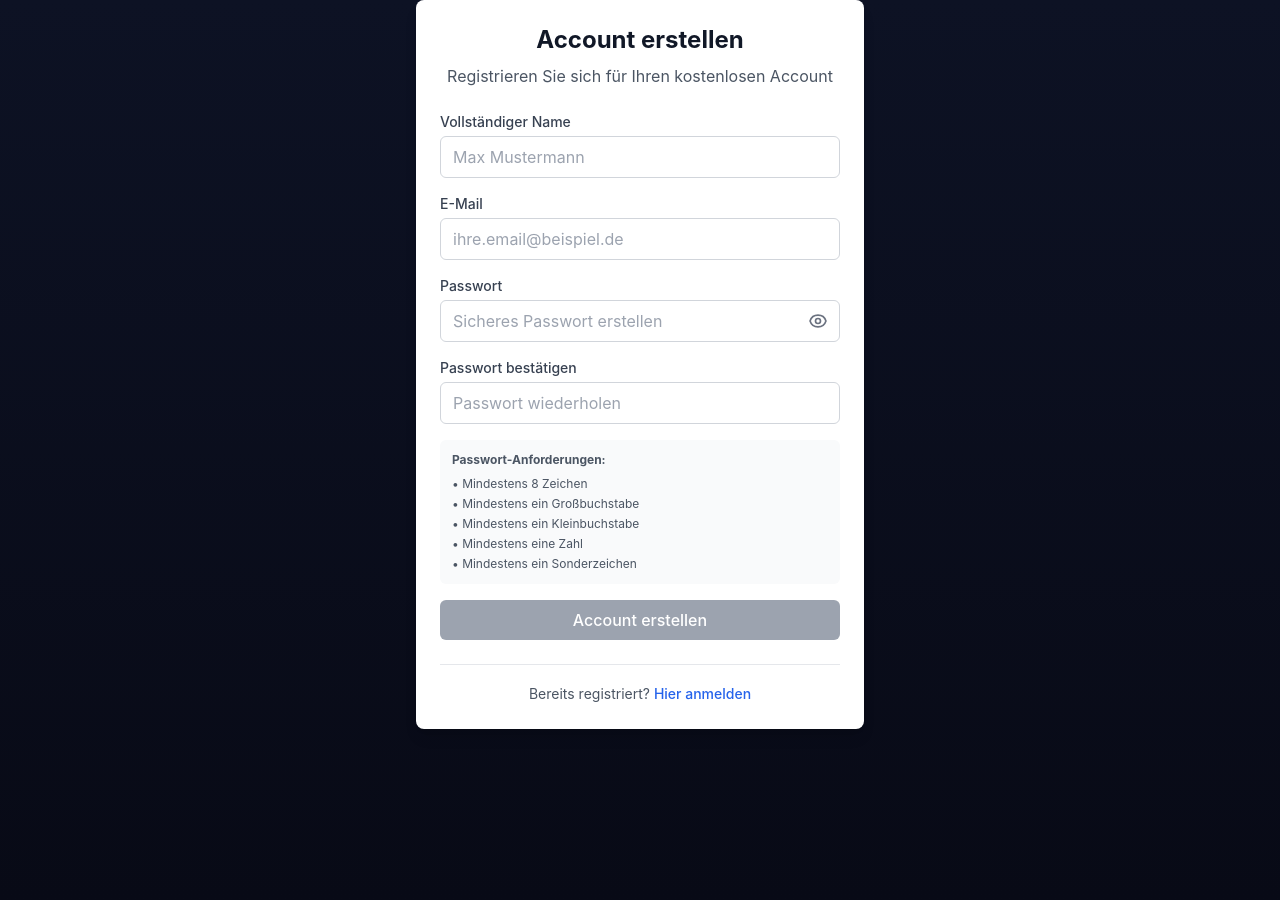
Test: RegisterForm › shows loading state during submission
Type "John Doe" into the field labelled "Vollständiger Name".
click(640, 157); type("John Doe")  # box [440,136,840,178]
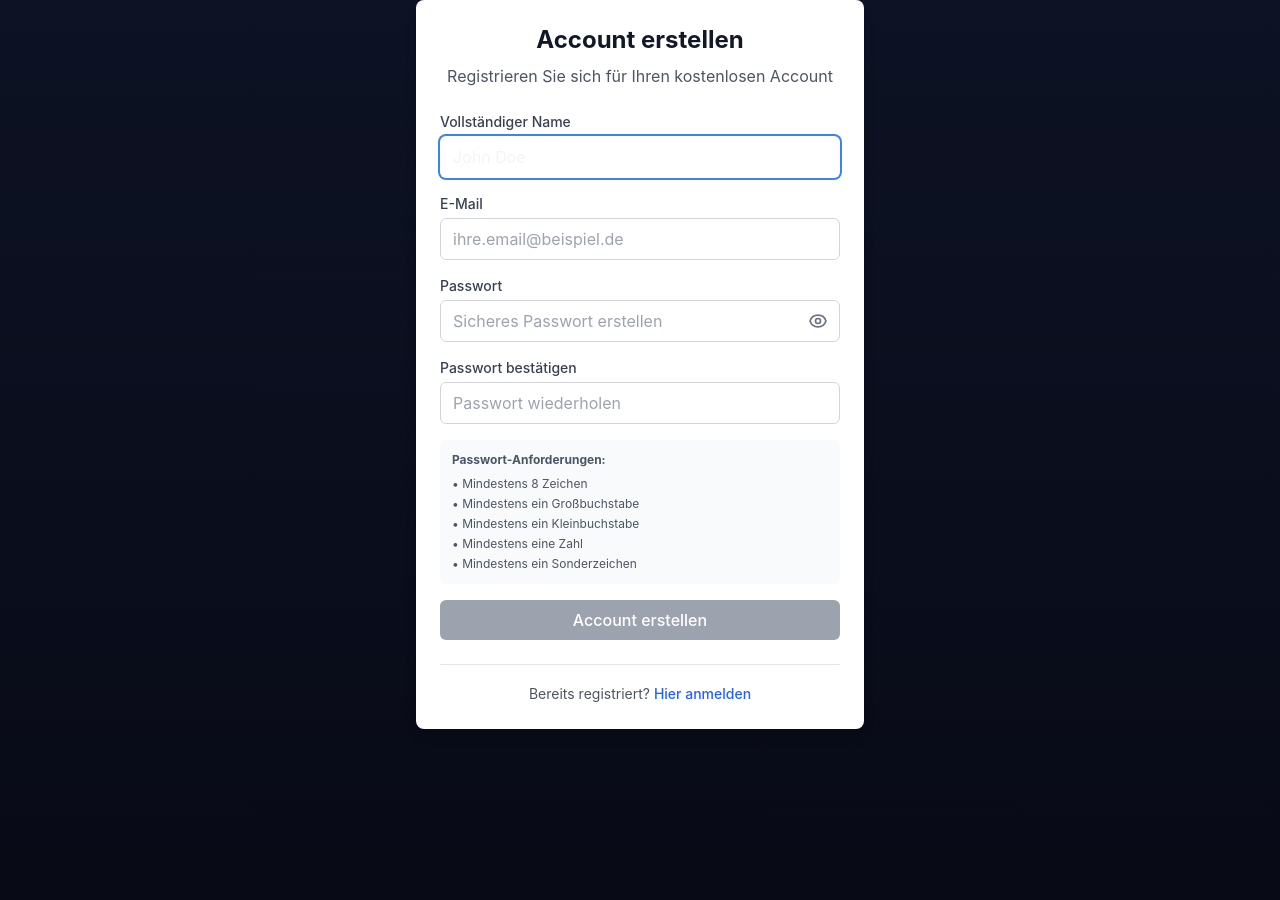
Type "john@example.com" into the field labelled "E-Mail".
click(640, 239); type("john@example.com")  # box [440,218,840,260]
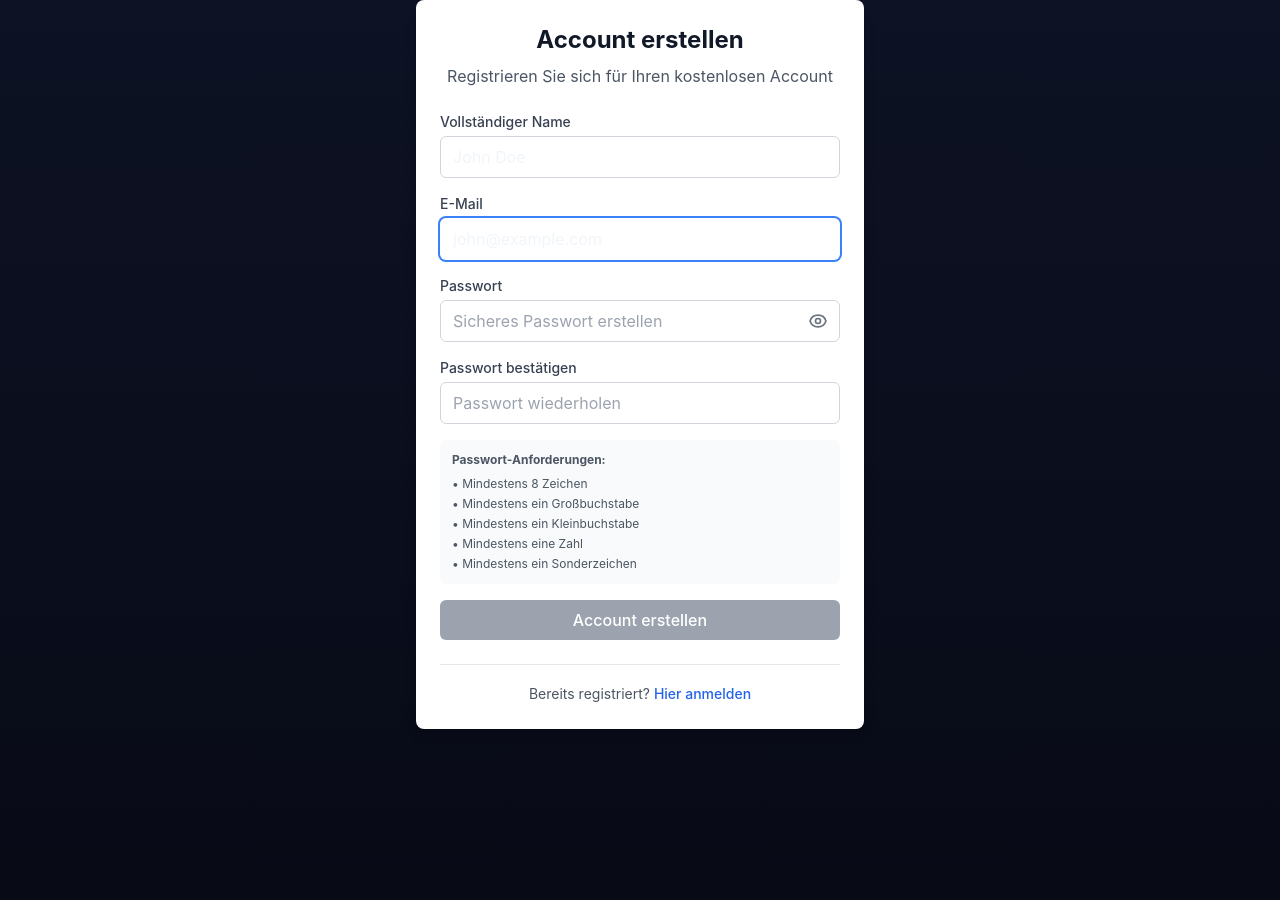
Type "SecurePassword123!" into the password field labelled "Passwort".
click(640, 321); type("SecurePassword123!")  # box [440,300,840,342]
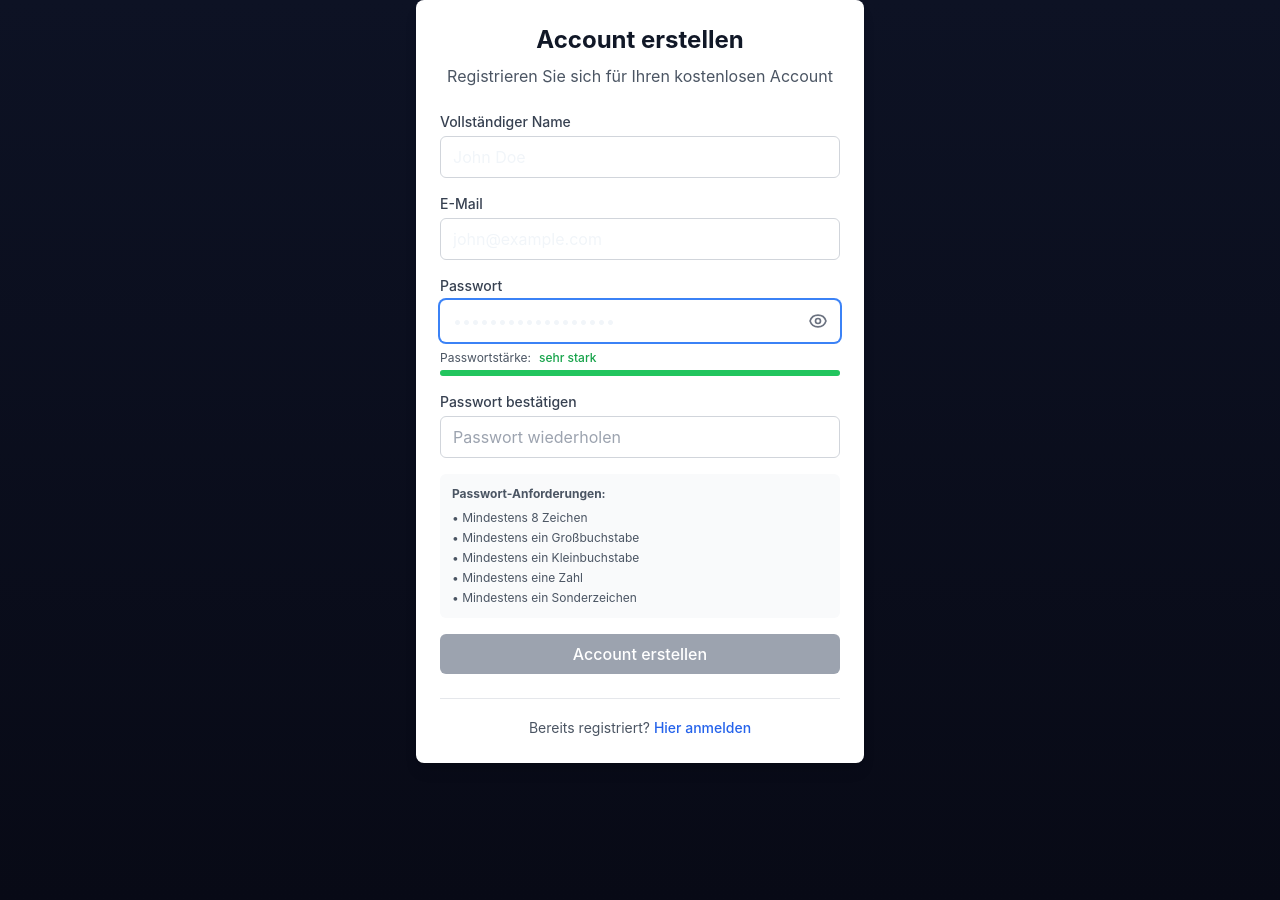
Type "SecurePassword123!" into the password field labelled "Passwort bestätigen".
click(640, 437); type("SecurePassword123!")  # box [440,416,840,458]
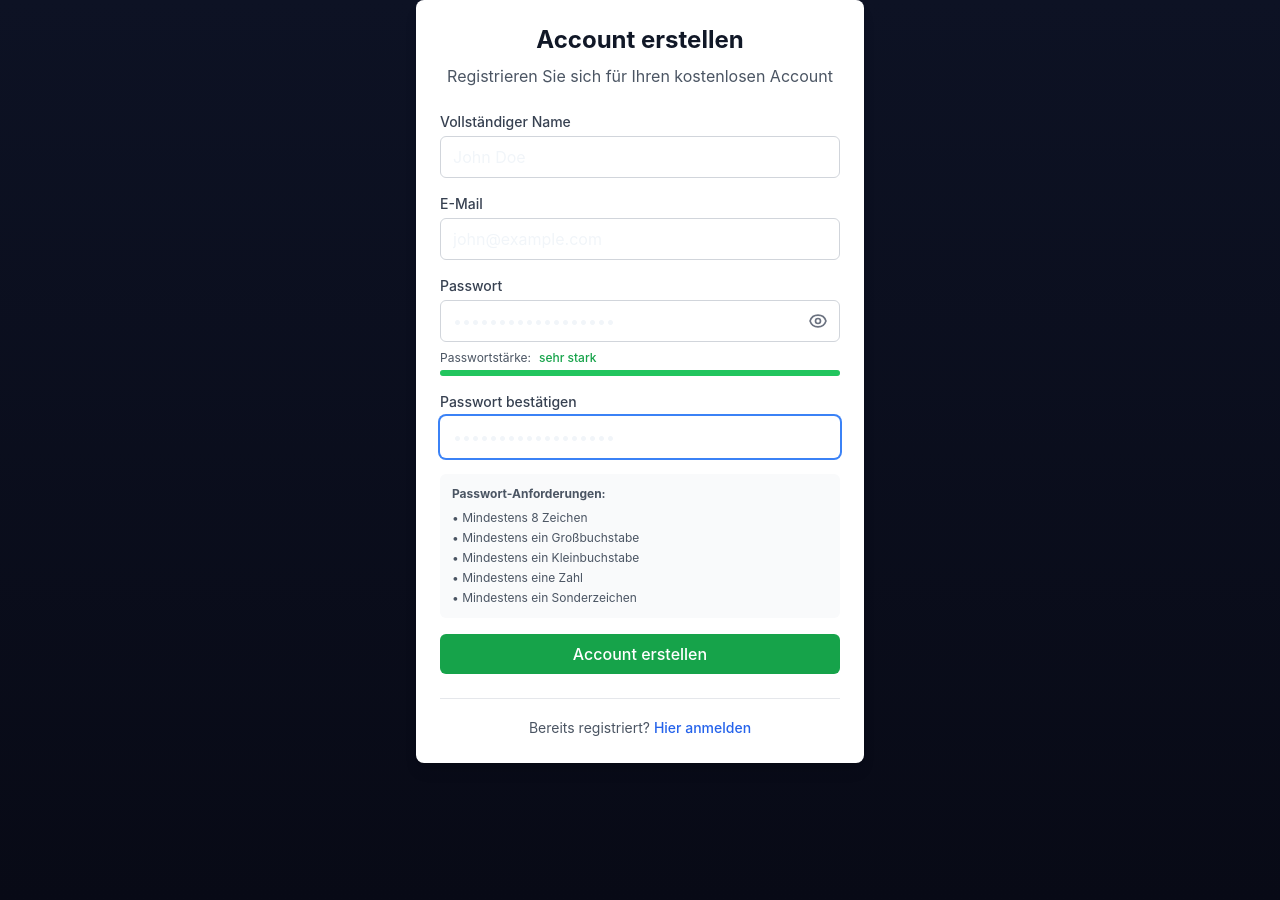
Click the button "Account erstellen".
click(640, 654)  # box [440,634,840,674]
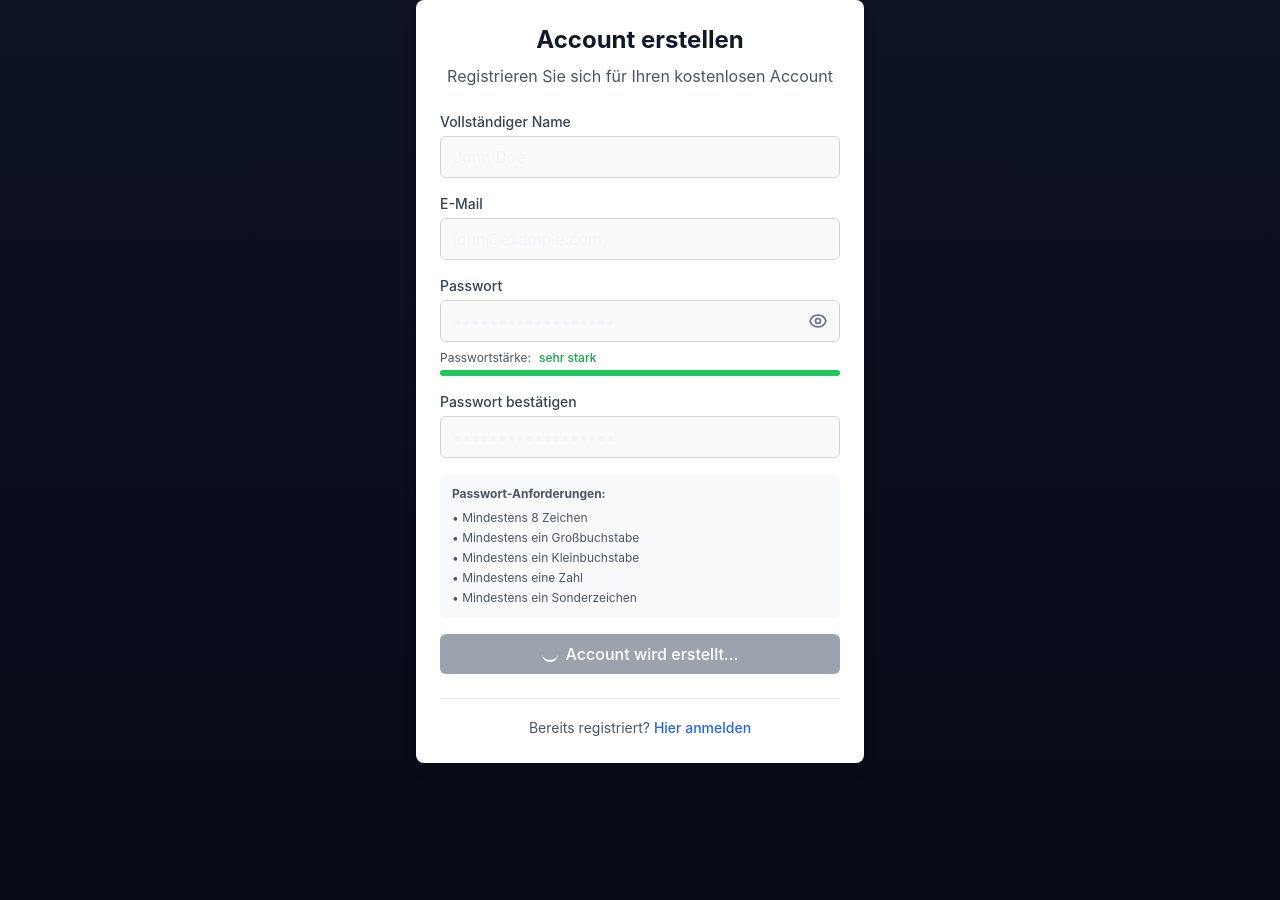
Expected: the field labelled "Vollständiger Name" is disabled, [440,136,840,178]
Expected: the button "Account wird erstellt..." is disabled, [440,634,840,674]
